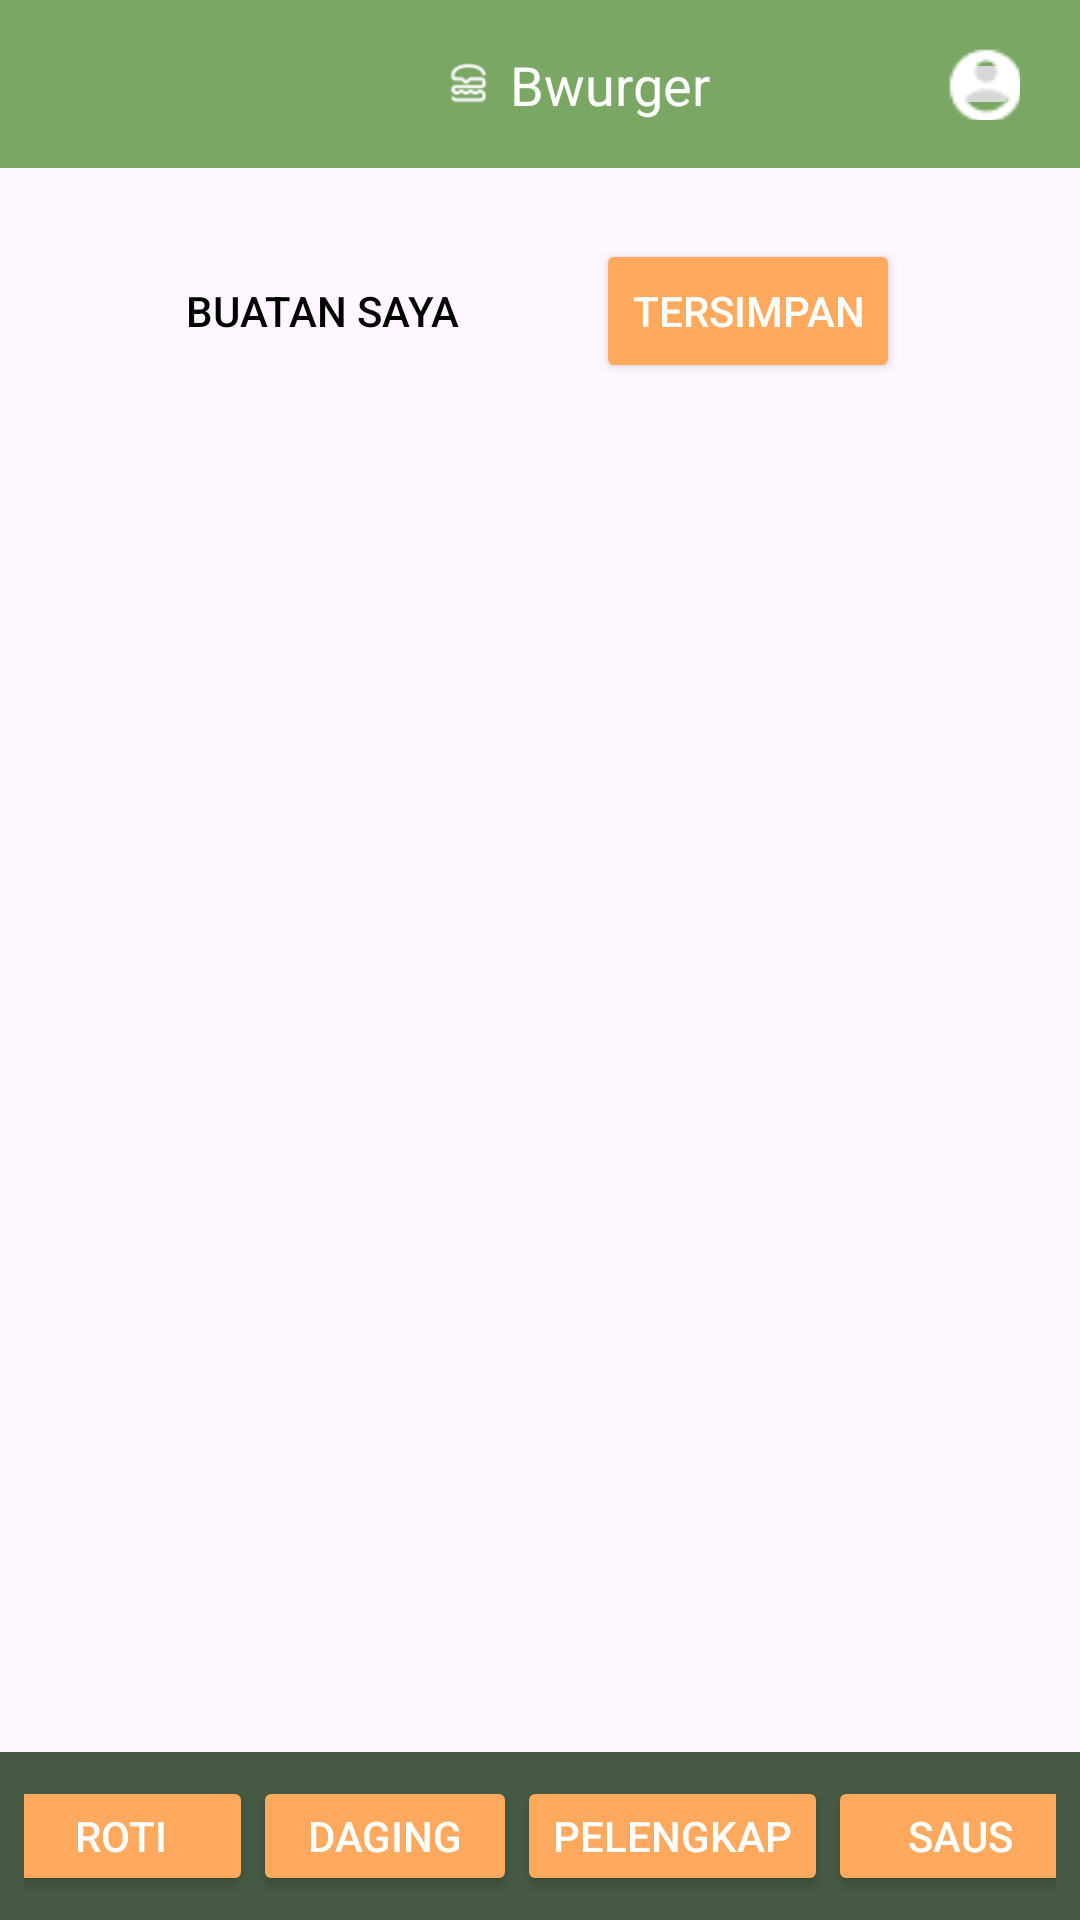

Icons on this 1080 × 1920 Android screen, each with the point to tap as [x,y]:
Profile: [984,84]
